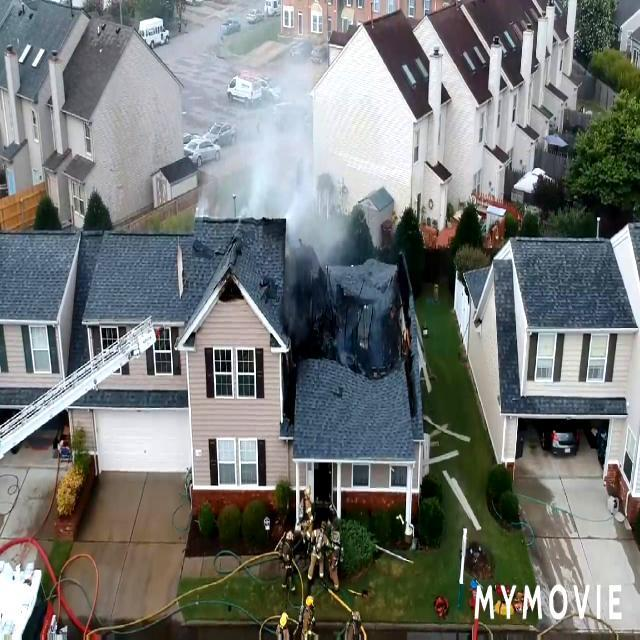Smoke: (197, 23, 356, 272)
